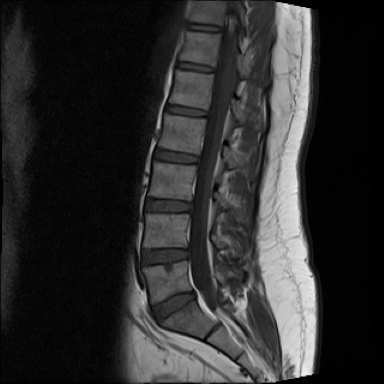Lumbar Disc Bulge (LDB): (146, 284, 201, 331)
Normal IVD: (137, 239, 195, 270), (142, 192, 197, 216), (150, 145, 202, 168), (165, 97, 211, 122), (171, 58, 218, 78), (181, 17, 227, 35)
Spinal Stenosis (SS): (188, 284, 201, 304)
